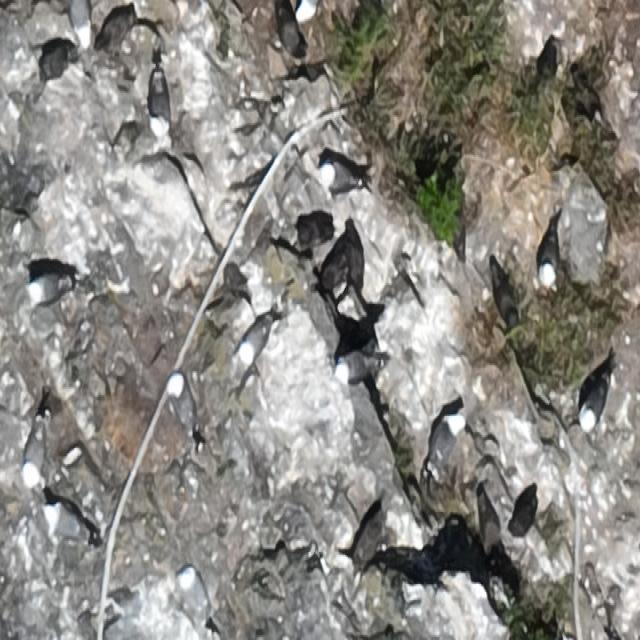umineko: (178, 562, 212, 621), (24, 408, 46, 492), (169, 372, 196, 438), (580, 373, 610, 431), (45, 505, 90, 543), (334, 350, 386, 382), (240, 312, 272, 362), (150, 66, 170, 139), (538, 225, 561, 288), (430, 415, 460, 463), (68, 1, 94, 50), (26, 279, 62, 308), (318, 164, 361, 188), (297, 1, 318, 22)
